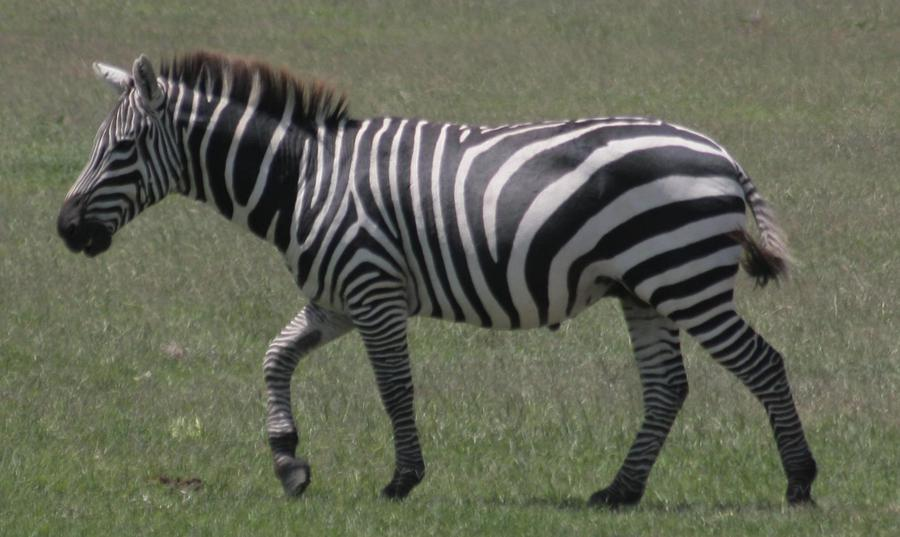zebra_plains: (257, 98, 774, 364)
